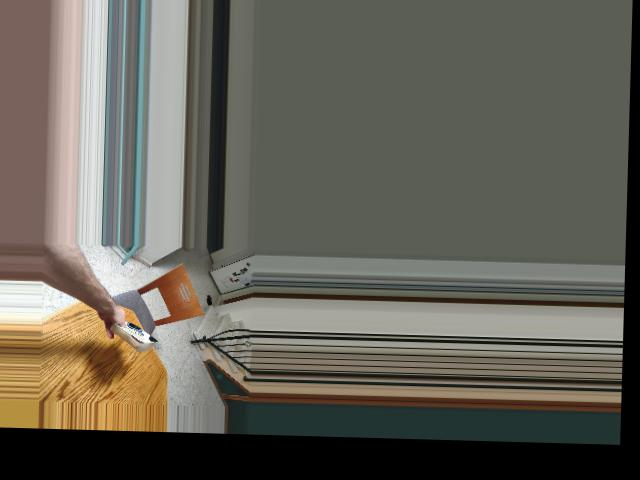cheese: (108, 317, 159, 353)
